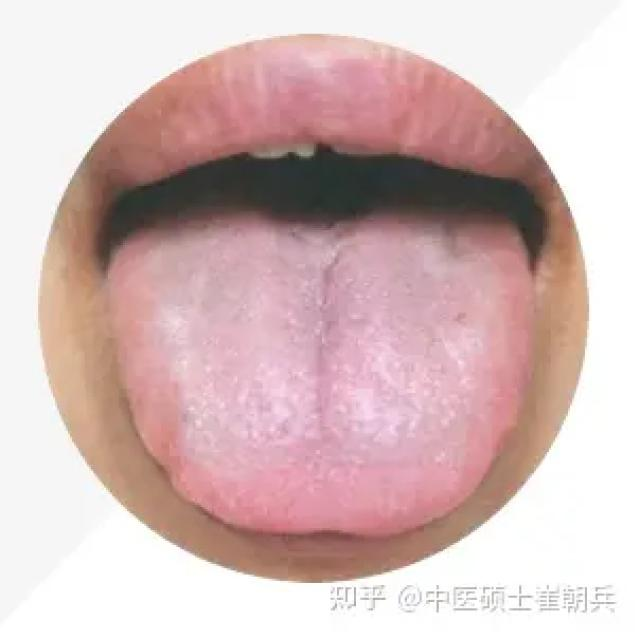tongue: (88, 216, 537, 542)
